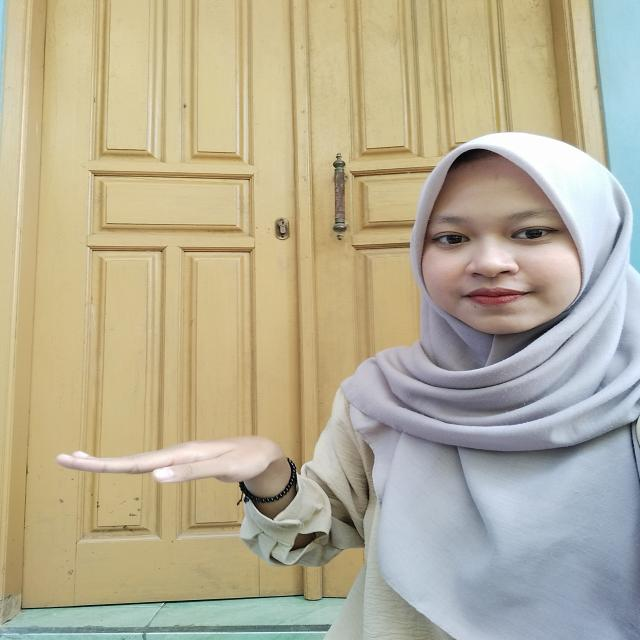adik: (39, 424, 328, 538)
